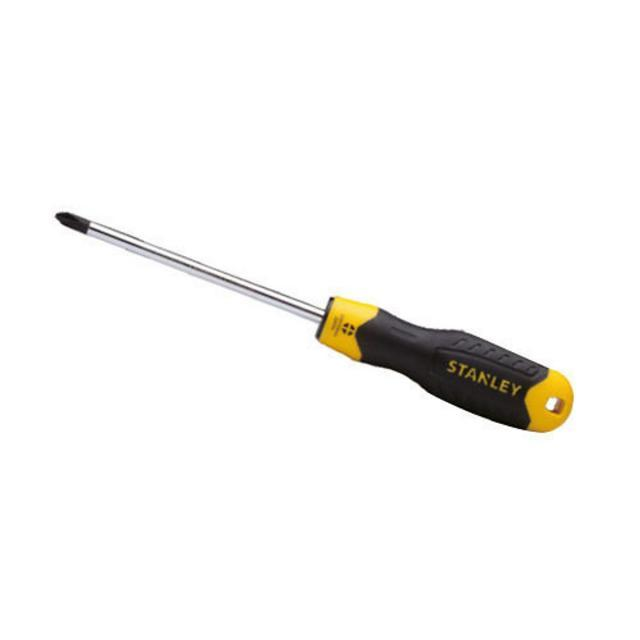screwdriver: (51, 207, 576, 436)
